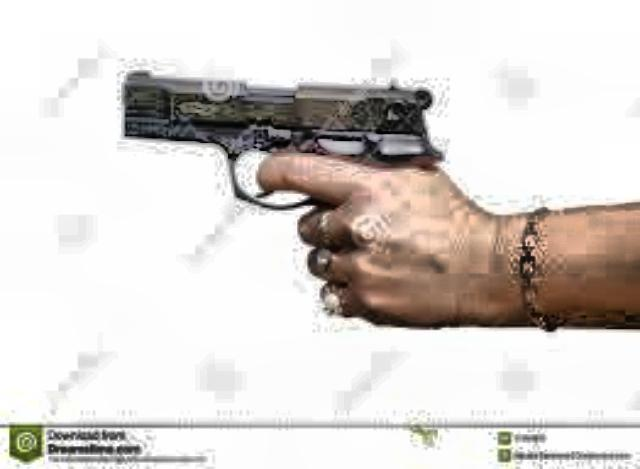pistol: (117, 50, 449, 332)
